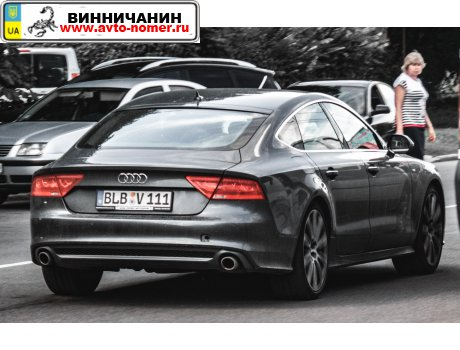License Plates: (114, 188, 169, 206)
